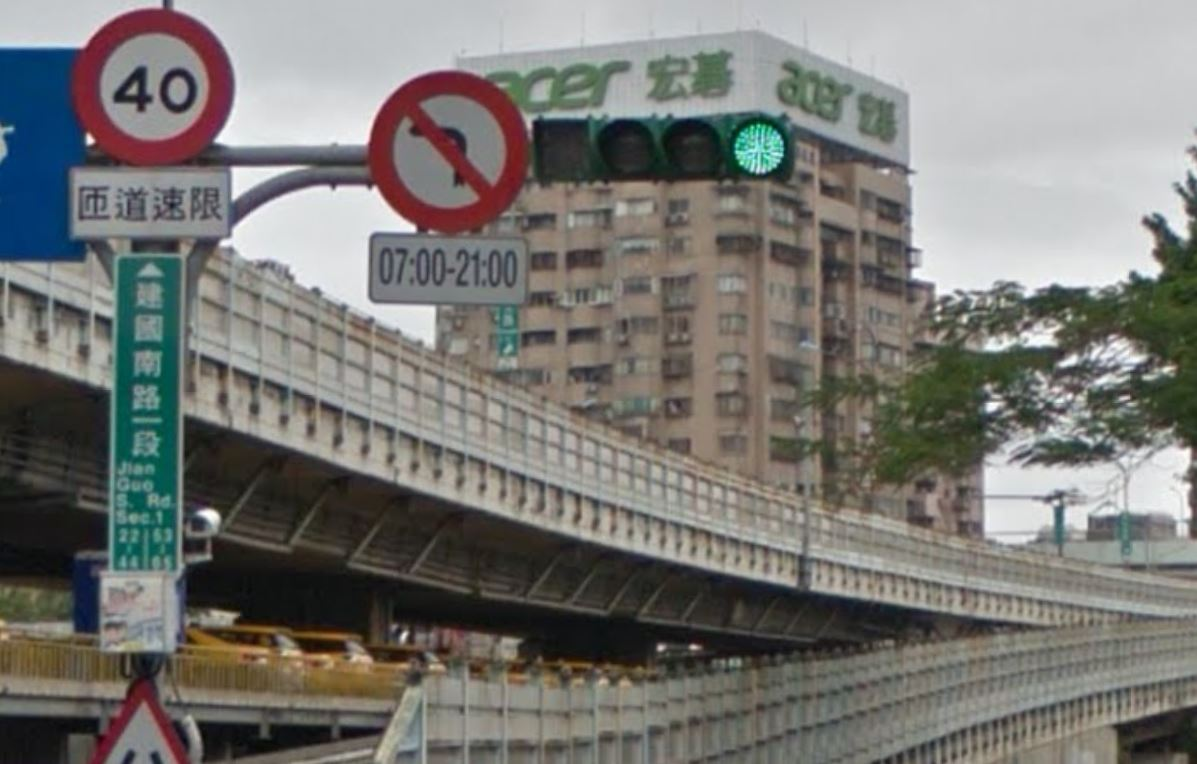No_left_turn: (369, 71, 531, 230)
Speed_limit_40km: (69, 10, 236, 165)
Traffic_light_green: (530, 115, 795, 183)
